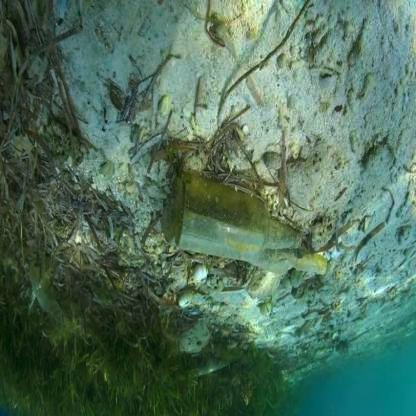gbottle: (170, 167, 326, 283)
